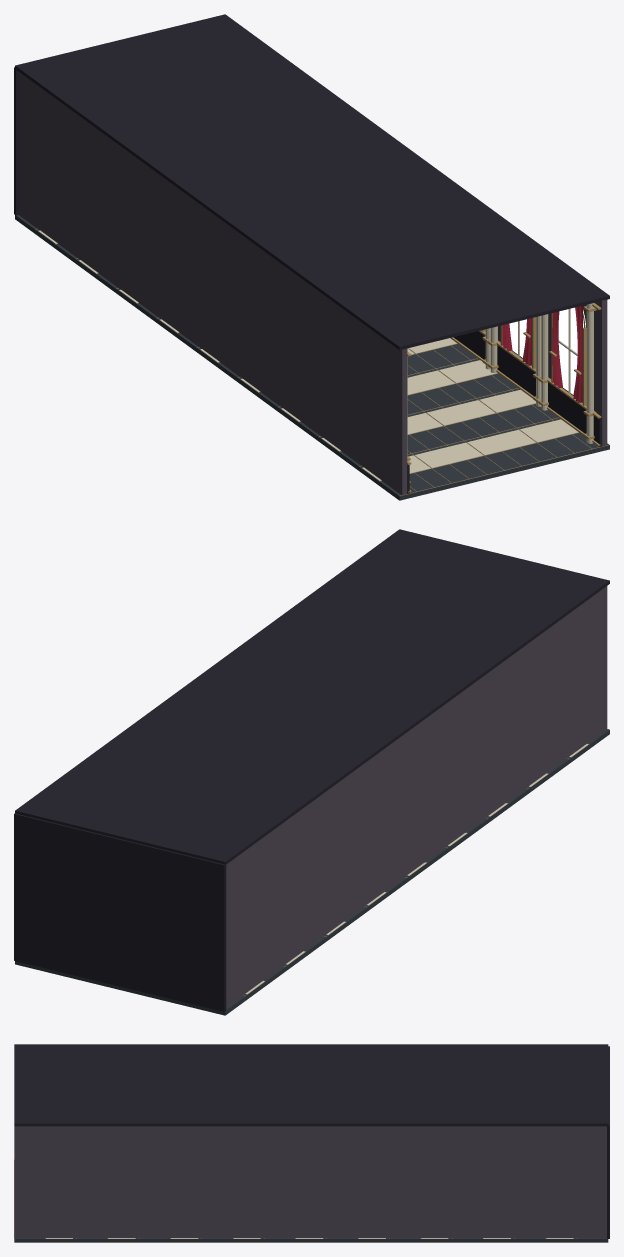
File: armament_hall.glb
3 renders of one model, top to bottom at view 1: azimuth 30°, elevation 25°; view 2: azimuth 150°, elevation 25°; view 3: azimuth 270°, elevation 25°, orthographic. The views are drawn at different scales.
Visible parts, largest first — view 1: armament_ink, armament_wall, armament_floor, armament_ivory, armament_gold, armament_red, armament_window; view 2: armament_ink, armament_wall, armament_floor; view 3: armament_wall, armament_ink, armament_floor.
Boxes of the visible parts, box(x1,y1,x2,y2) form: armament_ink: box(14, 14, 609, 493); armament_wall: box(18, 72, 607, 495); armament_floor: box(15, 215, 609, 500); armament_ivory: box(38, 230, 593, 480); armament_gold: box(35, 228, 609, 496); armament_red: box(502, 305, 582, 402); armament_window: box(509, 307, 585, 394); armament_ink: box(14, 529, 609, 1011); armament_wall: box(226, 586, 607, 1007); armament_floor: box(15, 729, 609, 1015); armament_wall: box(14, 1126, 606, 1237); armament_ink: box(14, 1044, 609, 1238); armament_floor: box(14, 1238, 608, 1242).
Size of the model in its own units: 12 by 8.38 by 38.11.
